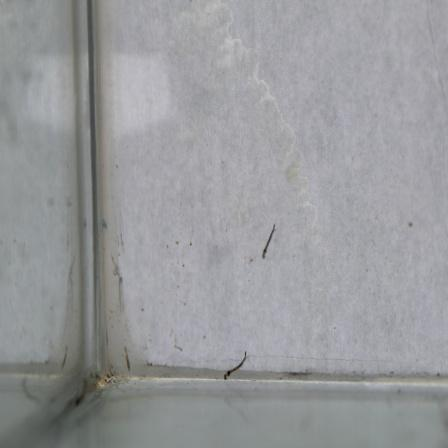Jentik-Nyamuk: (219, 348, 251, 381), (258, 220, 280, 262)
